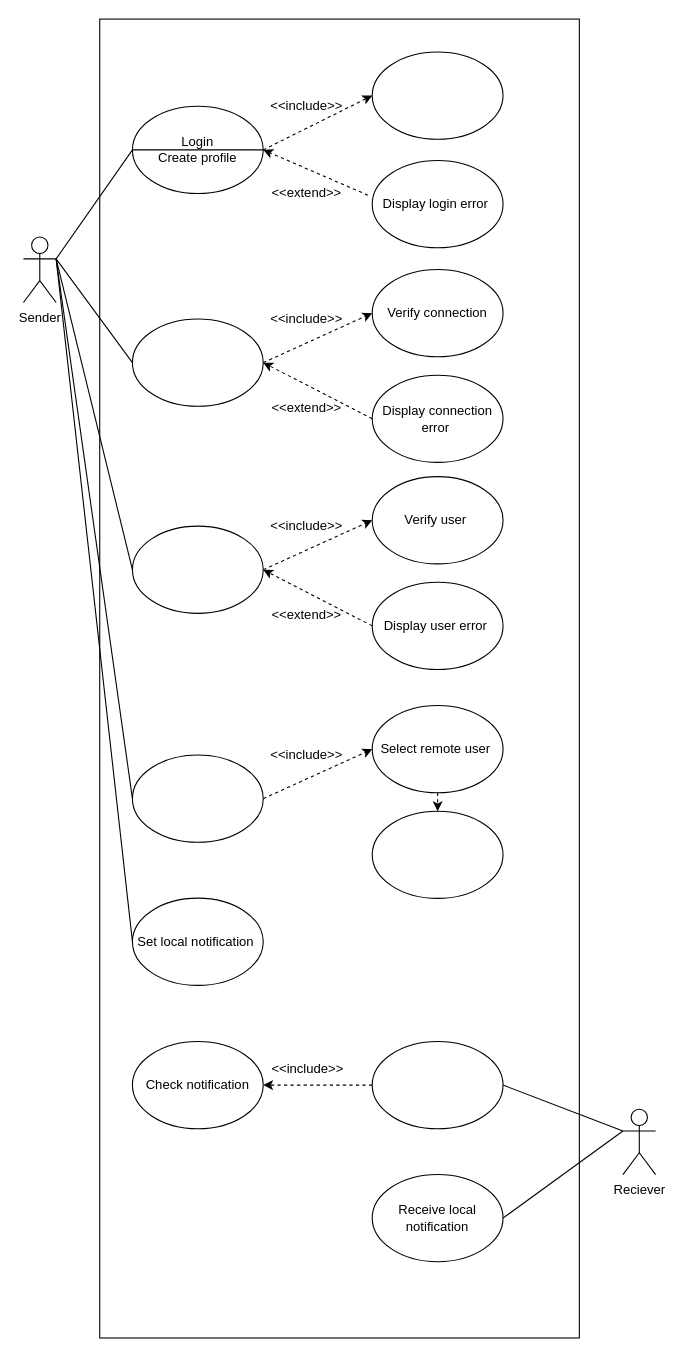
Image size: 683x1357. Some labels were removed from this diagram. Each missing label, with the centre of its shape:
"Pair with band" belongs at (x=197, y=362).
"Pair with remote user" belongs at (x=197, y=569).
"Receive remote notification" belongs at (x=437, y=1084).
"Send notification to database" belongs at (x=437, y=854).
"Send remote notification" belongs at (x=197, y=798).
"Verify login" belongs at (x=437, y=95).
